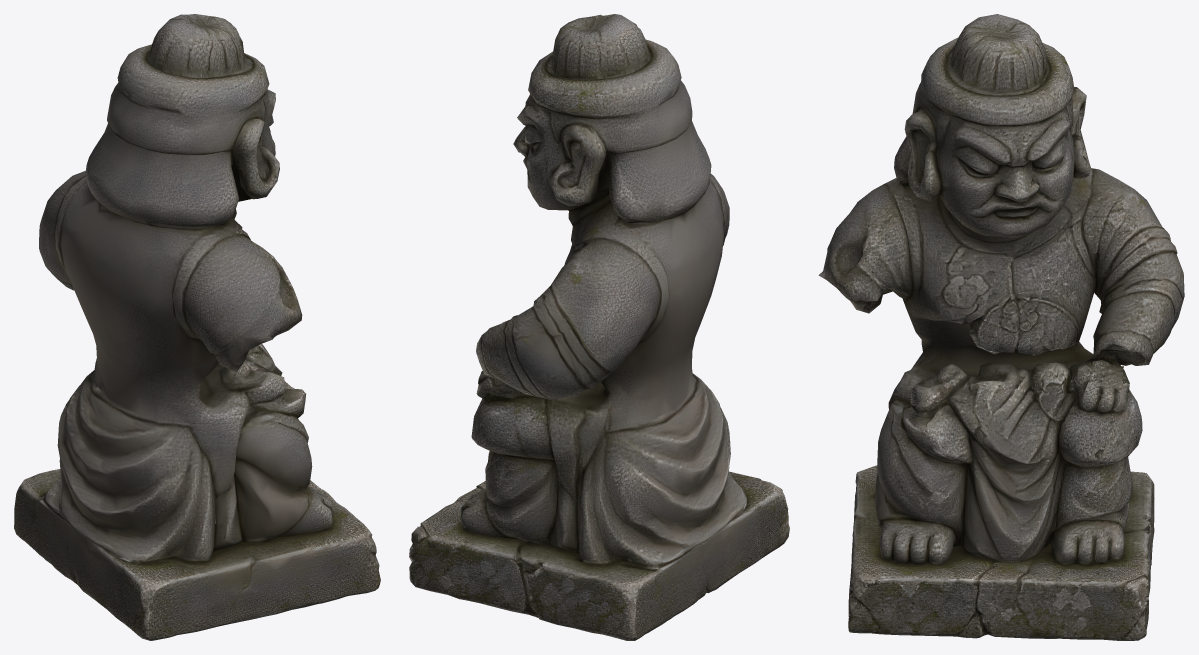
The model's file is broken_statue_h31_raw_v1.glb.
3 views of the same model, side by side, from view 1: azimuth 30°, elevation 25°; view 2: azimuth 150°, elevation 25°; view 3: azimuth 270°, elevation 25° (orthographic). The views are drawn at different scales.
Parts seen in each view (by area): view 1: tripo_node_7fe8b0b0-e430-4ea5-b45b-1c7da7566772; view 2: tripo_node_7fe8b0b0-e430-4ea5-b45b-1c7da7566772; view 3: tripo_node_7fe8b0b0-e430-4ea5-b45b-1c7da7566772.
Boxes of the visible parts, x1=… form: tripo_node_7fe8b0b0-e430-4ea5-b45b-1c7da7566772: x1=14, y1=14, x2=380, y2=640; tripo_node_7fe8b0b0-e430-4ea5-b45b-1c7da7566772: x1=409, y1=14, x2=789, y2=640; tripo_node_7fe8b0b0-e430-4ea5-b45b-1c7da7566772: x1=818, y1=14, x2=1184, y2=640.
Size of the model in its own units: 0.4698 by 1 by 0.5953.
Materials: 1 (1 with a texture image).
